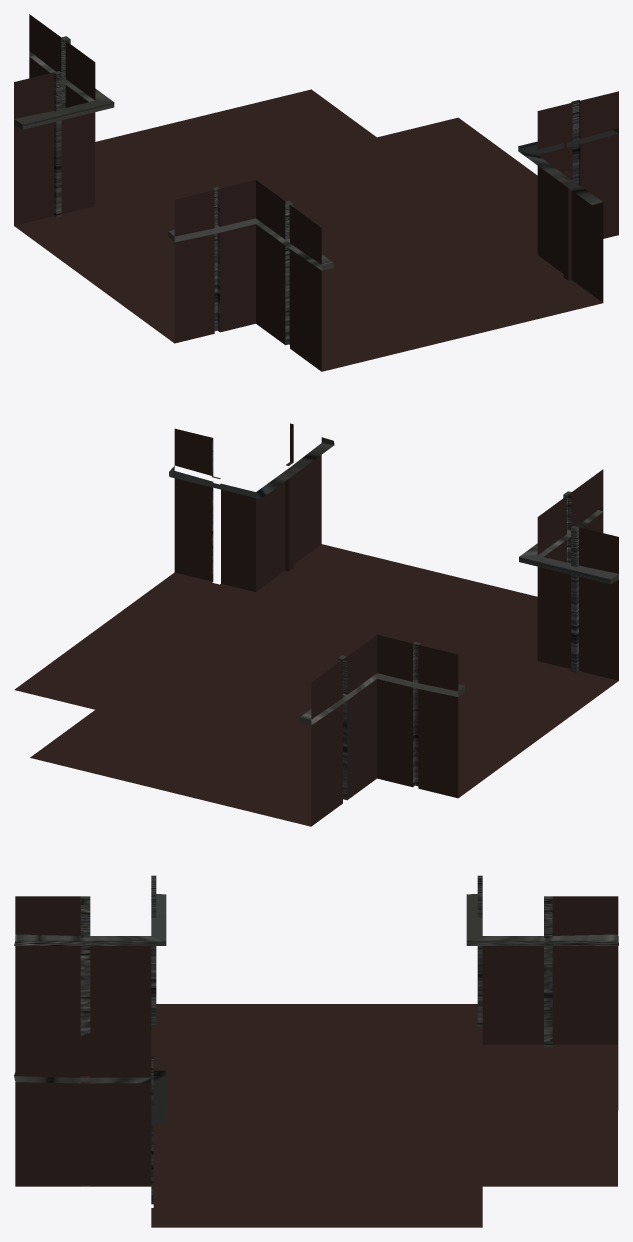
File: + hallway.fbx
The picture shows the model from 3 angles, top to bottom: view 1: azimuth 30°, elevation 25°; view 2: azimuth 150°, elevation 25°; view 3: azimuth 270°, elevation 25°; orthographic projection. The views are drawn at different scales.
Visible parts, largest first — view 1: T-jumction; view 2: T-jumction; view 3: T-jumction.
Part boxes in pixels (left/top/right/bottom): T-jumction: left=14, top=14, right=618, bottom=371; T-jumction: left=14, top=423, right=618, bottom=826; T-jumction: left=14, top=875, right=618, bottom=1227.
Size of the model in its own units: 127 by 39.32 by 145.
